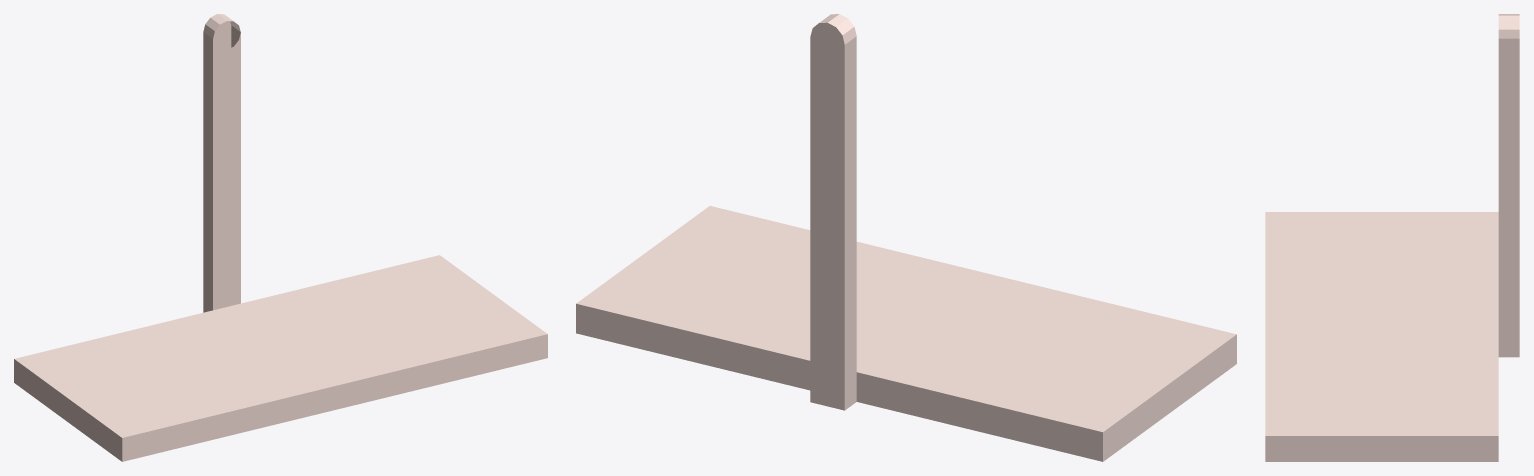
Rendered from hamster_stand.fbx.
3 views of the same model, side by side, from view 1: azimuth 30°, elevation 25°; view 2: azimuth 150°, elevation 25°; view 3: azimuth 270°, elevation 25° (orthographic). The views are drawn at different scales.
Parts seen in each view (by area): view 1: stand; view 2: stand; view 3: stand.
Boxes of the visible parts, x1,y1,x2,y2 form: stand: (14, 14, 547, 461); stand: (576, 14, 1236, 461); stand: (1265, 14, 1519, 461).
Size of the model in its own units: 17.85 by 37.24 by 25.91.
